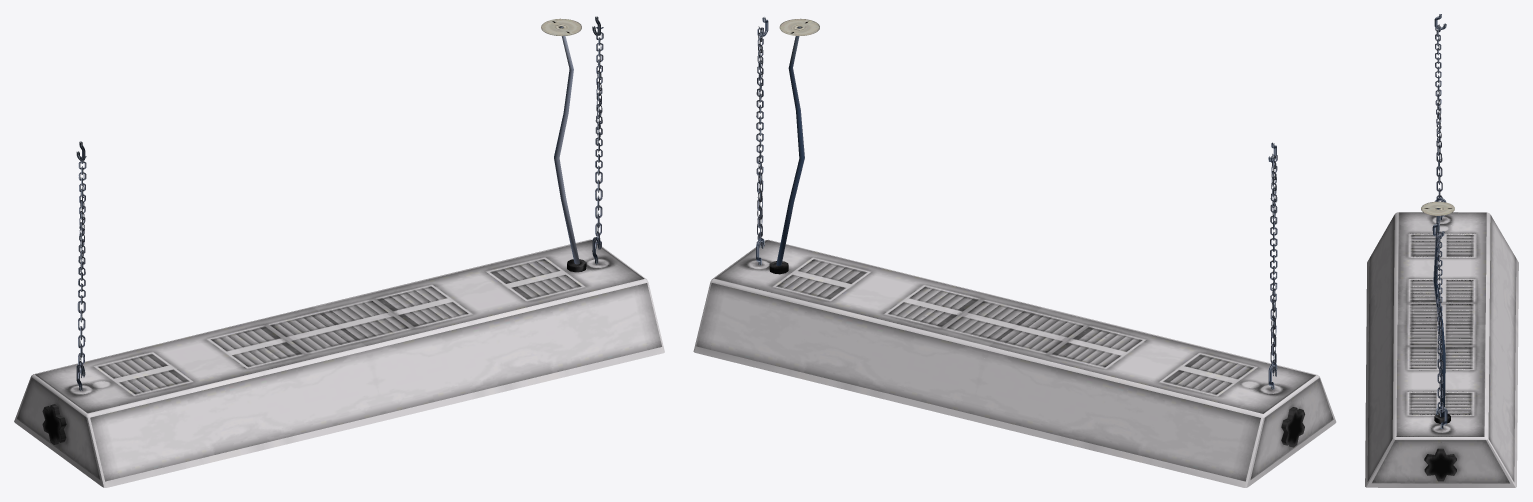
3 renders of one model, left to right at view 1: azimuth 30°, elevation 25°; view 2: azimuth 150°, elevation 25°; view 3: azimuth 270°, elevation 25°, orthographic. The views are drawn at different scales.
Parts seen in each view (by area): view 1: DrawCall_0365; view 2: DrawCall_0365; view 3: DrawCall_0365.
Part boxes in pixels (x1,y1,x2,y2): DrawCall_0365: (14, 16, 664, 487); DrawCall_0365: (693, 17, 1336, 487); DrawCall_0365: (1365, 14, 1518, 487).
Bounding box in the file's own units: 3.19 × 1.65 × 0.898.
